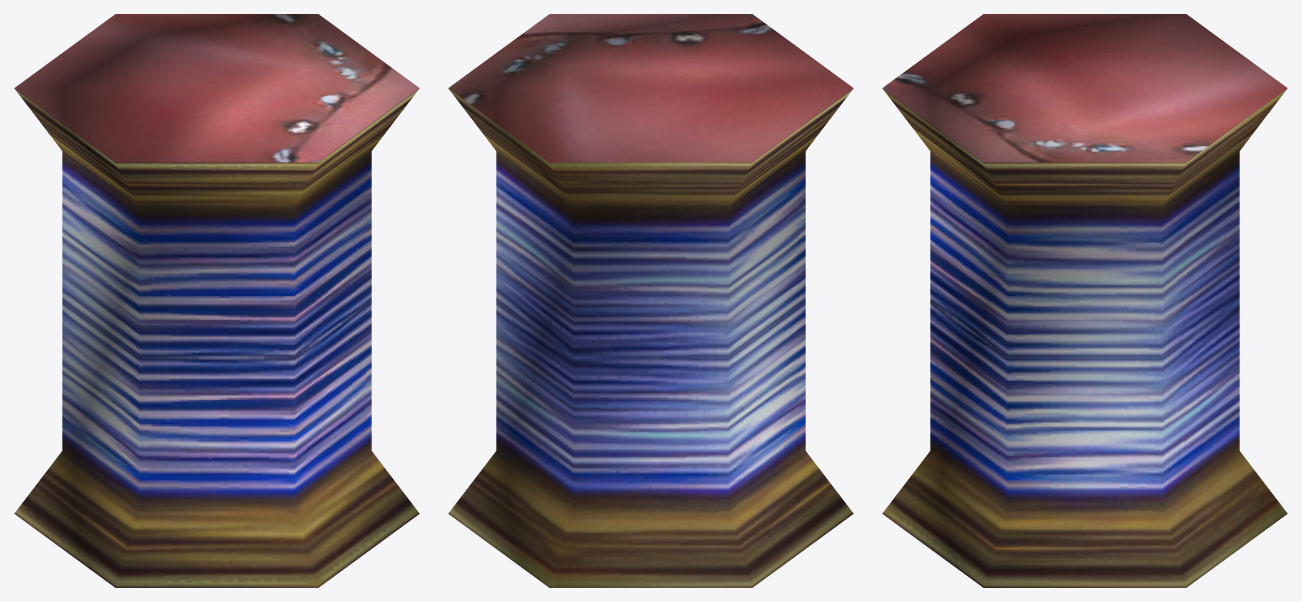
The model's file is clothspoolblue.obj.
3 renders of one model, left to right at view 1: azimuth 30°, elevation 25°; view 2: azimuth 150°, elevation 25°; view 3: azimuth 270°, elevation 25°, orthographic.
Visible parts, largest first — view 1: clothspoolblue; view 2: clothspoolblue; view 3: clothspoolblue.
Part boxes in pixels (x1,y1,x2,y2): clothspoolblue: [14, 14, 419, 587]; clothspoolblue: [448, 14, 853, 587]; clothspoolblue: [882, 14, 1287, 587].
Size of the model in its own units: 0.1862 by 0.2489 by 0.215.
1 material, 1 textured.
